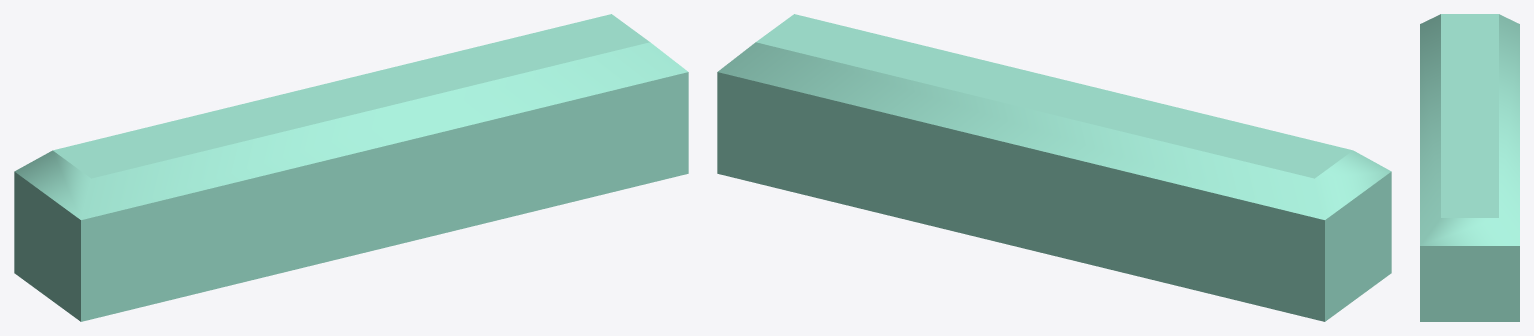
3 renders of one model, left to right at view 1: azimuth 30°, elevation 25°; view 2: azimuth 150°, elevation 25°; view 3: azimuth 270°, elevation 25°, orthographic. The views are drawn at different scales.
Visible parts, largest first — view 1: hedge; view 2: hedge; view 3: hedge.
Part boxes in pixels (x1,y1,x2,y2): hedge: [14, 14, 688, 321]; hedge: [717, 14, 1391, 321]; hedge: [1420, 14, 1519, 321].
Bounding box in the file's own units: 1 × 0.2 × 0.19.
